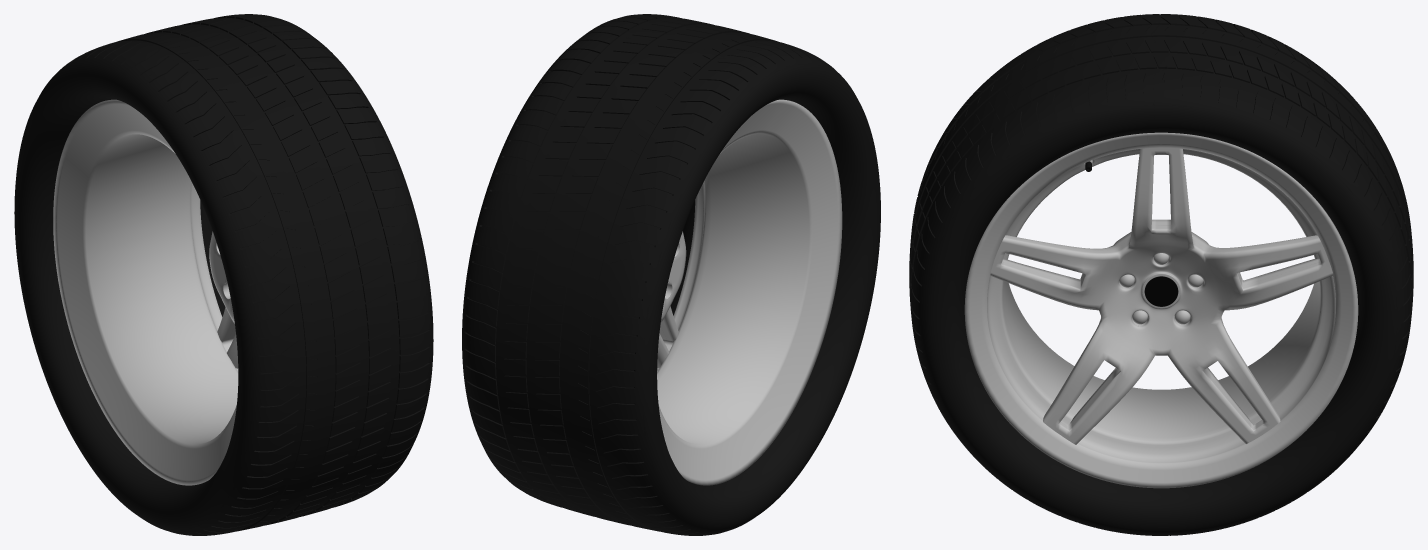
Rendered from koleso3.glb.
The picture shows the model from 3 angles, left to right: view 1: azimuth 30°, elevation 25°; view 2: azimuth 150°, elevation 25°; view 3: azimuth 270°, elevation 25°; orthographic projection.
Parts seen in each view (by area): view 1: wheel_rim_bolt_e; view 2: wheel_rim_bolt_e; view 3: wheel_rim_bolt_e.
Boxes of the visible parts, x1,y1,x2,y2 form: wheel_rim_bolt_e: [14, 14, 433, 535]; wheel_rim_bolt_e: [462, 14, 880, 535]; wheel_rim_bolt_e: [909, 14, 1413, 535].
Size of the model in its own units: 0.2994 by 0.6993 by 0.6994.
Materials: 1 (1 with a texture image).
